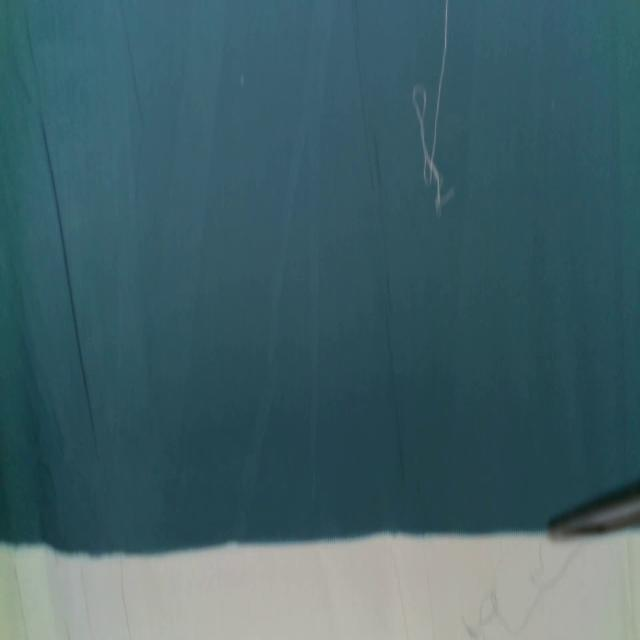crease: (350, 0, 404, 478), (41, 113, 100, 464)
